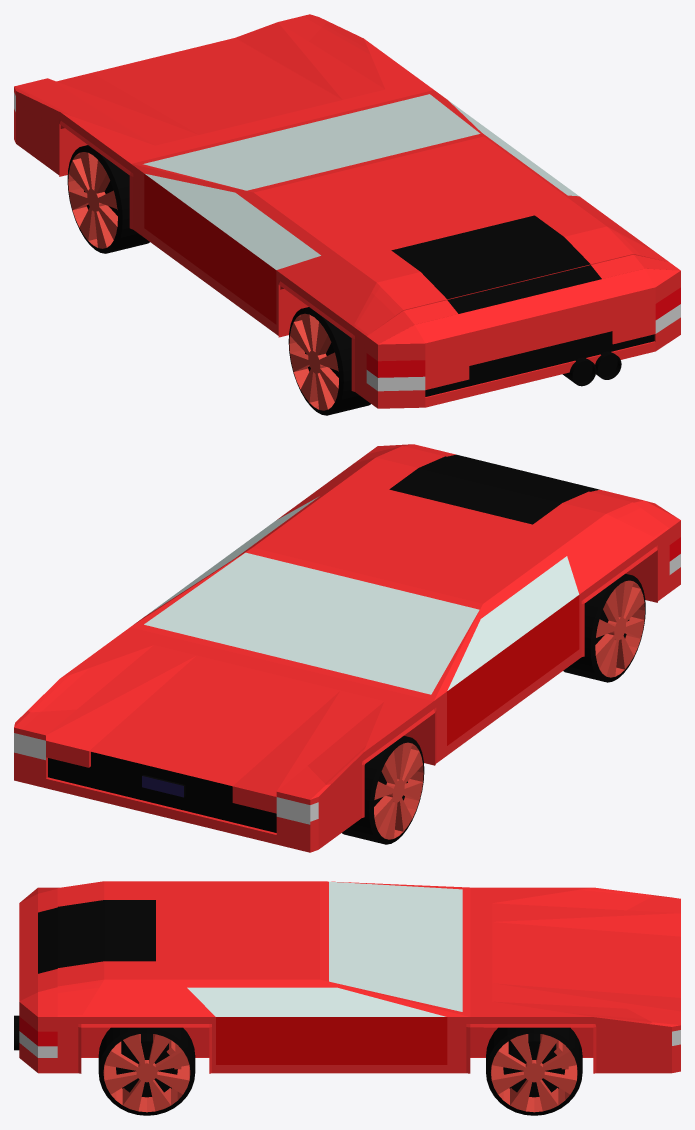
File: car11.fbx
3 renders of one model, top to bottom at view 1: azimuth 30°, elevation 25°; view 2: azimuth 150°, elevation 25°; view 3: azimuth 270°, elevation 25°, orthographic. The views are drawn at different scales.
Visible parts, largest first — view 1: Cube, Cylinder.001, Cylinder.002; view 2: Cube, Cylinder.001, Cylinder.002; view 3: Cube, Cylinder.003, Cylinder.
Part boxes in pixels (x1=…): Cube: x1=14, y1=14, x2=680, y2=408; Cylinder.001: x1=288, y1=307, x2=370, y2=415; Cylinder.002: x1=67, y1=145, x2=149, y2=253; Cube: x1=14, y1=444, x2=680, y2=852; Cylinder.001: x1=563, y1=573, x2=645, y2=682; Cylinder.002: x1=342, y1=736, x2=424, y2=844; Cube: x1=14, y1=881, x2=680, y2=1073; Cylinder.003: x1=98, y1=1027, x2=195, y2=1115; Cylinder: x1=486, y1=1027, x2=582, y2=1115.
Size of the model in its own units: 768 by 331 by 1654.
